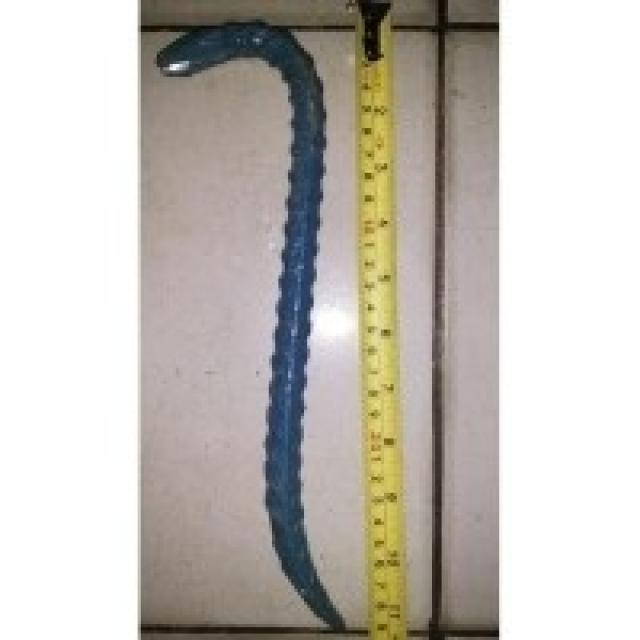Linggis: (158, 20, 355, 632)
